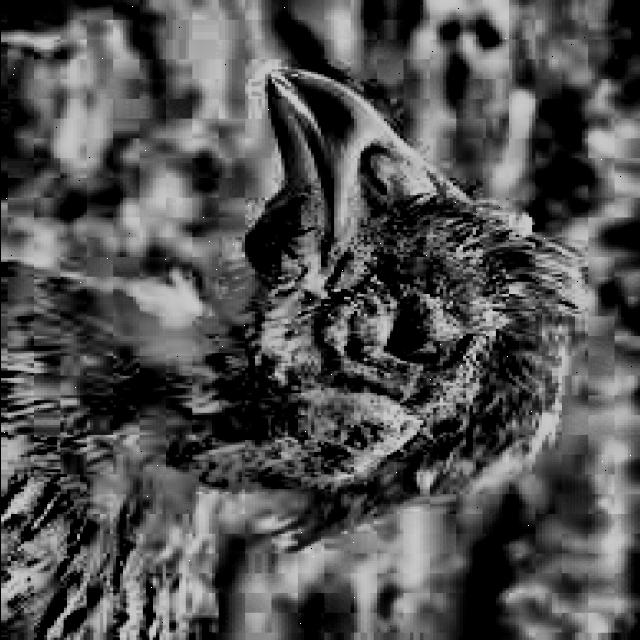Fowlpox: (120, 71, 584, 562)
